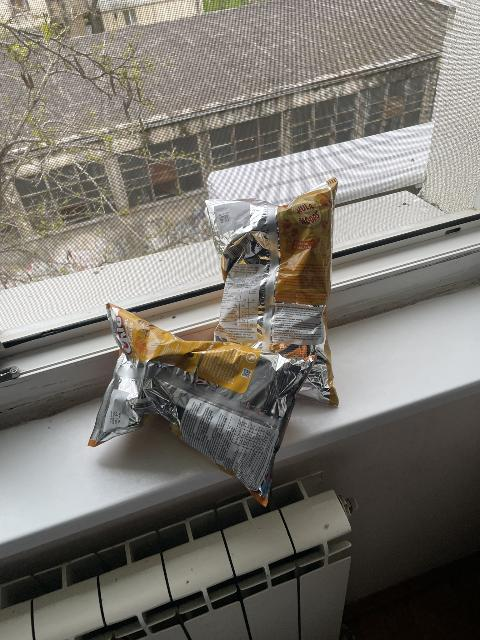Chio Cascaval 125g: (93, 300, 318, 506)
Chio Hula Hoops Cheese 70g: (203, 178, 340, 408)
